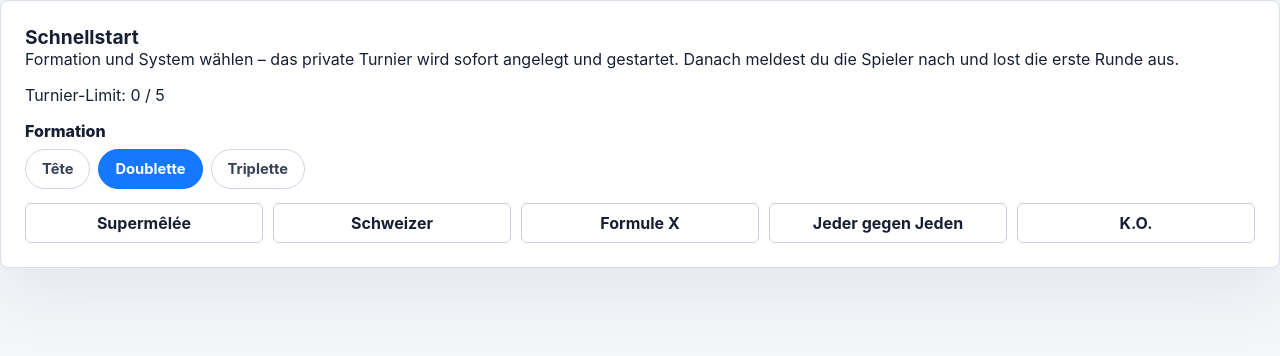
Test case: Schnellstart › zeigt einen Fehler beim Anlegen sichtbar an
Click the button "K.O.": (1136, 223) [1017, 203, 1255, 243]
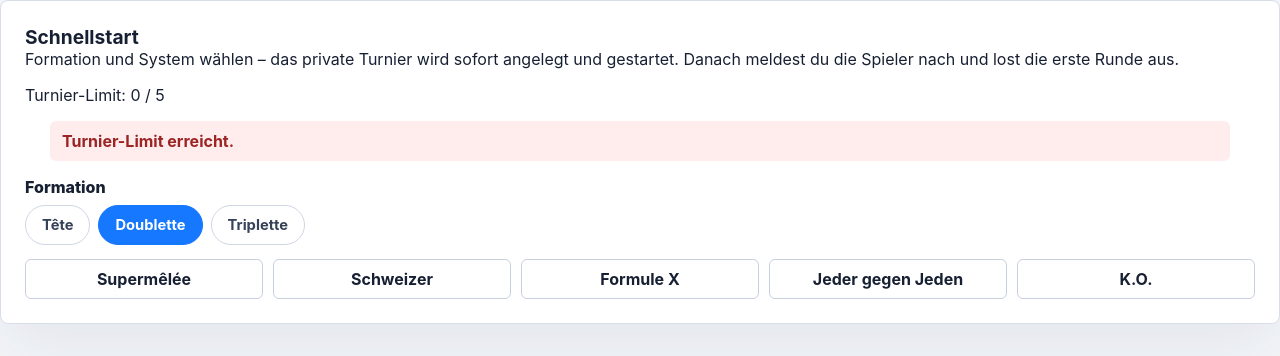
Expected: the message reads "Turnier-Limit erreicht.", [62, 131, 234, 151]
